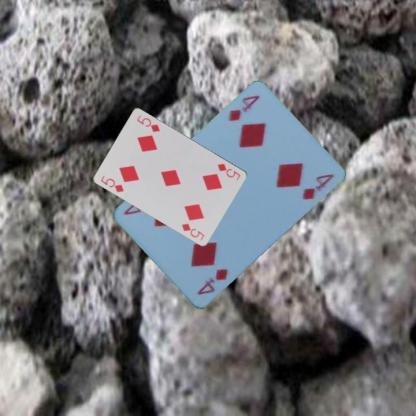4d: (225, 92, 261, 124), (194, 266, 229, 297)
5d: (98, 172, 126, 194), (215, 160, 242, 182)
